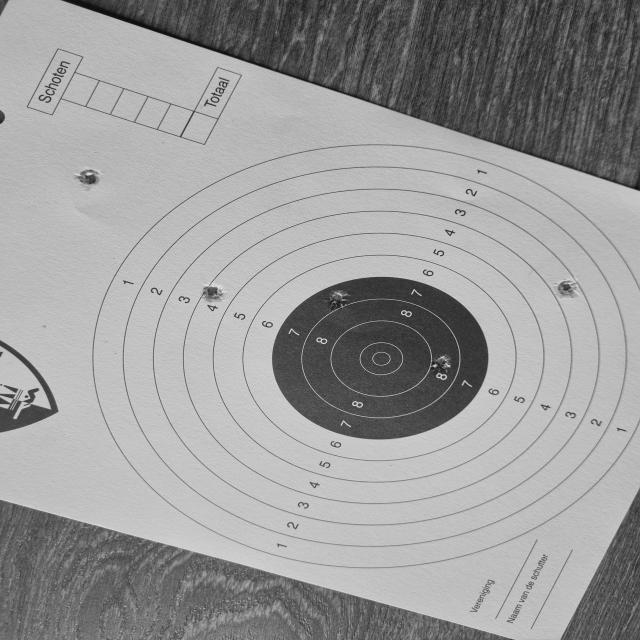0: (78, 168, 101, 186)
3: (554, 276, 582, 300)
4: (202, 284, 226, 302)
8: (327, 290, 349, 308), (432, 353, 452, 372)
Target: (91, 144, 640, 571)
black_contour: (271, 276, 488, 440)
